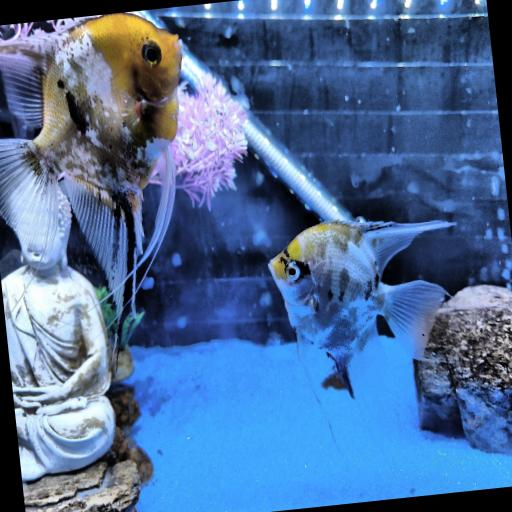Fish: (0, 13, 181, 316), (268, 222, 452, 397)
